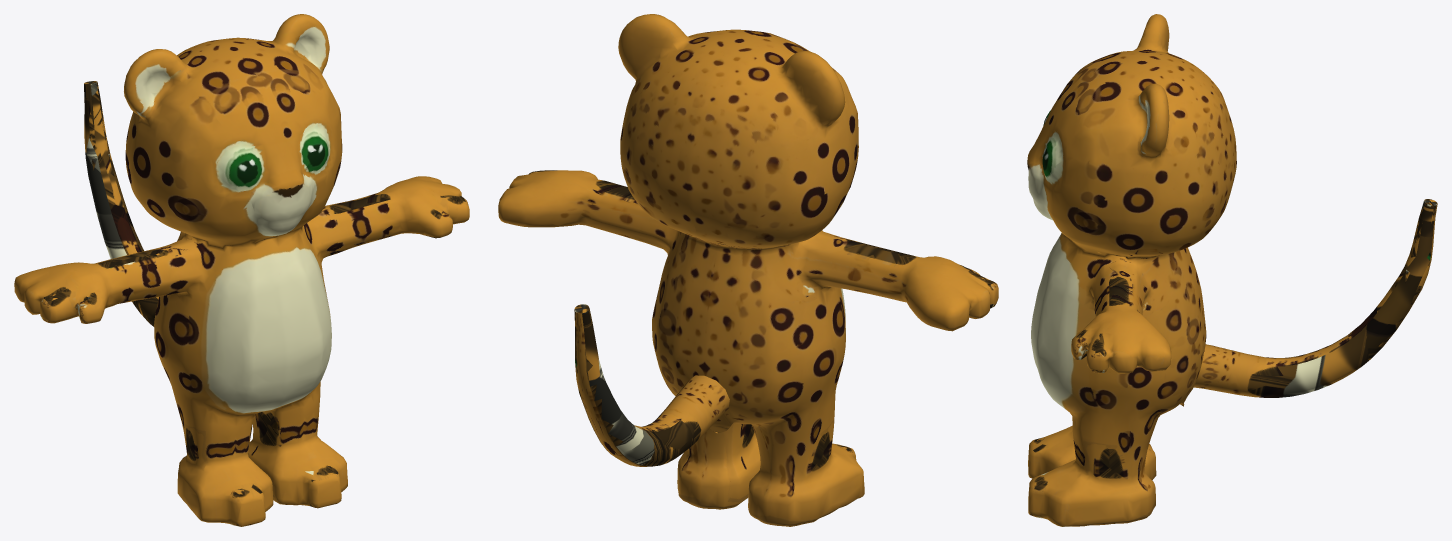
Rendered from leopard_tpose.glb.
3 renders of one model, left to right at view 1: azimuth 30°, elevation 25°; view 2: azimuth 150°, elevation 25°; view 3: azimuth 270°, elevation 25°, orthographic. The views are drawn at different scales.
Parts seen in each view (by area): view 1: leopard_tpose_baked; view 2: leopard_tpose_baked; view 3: leopard_tpose_baked.
Part boxes in pixels (x1,y1,x2,y2): leopard_tpose_baked: [14, 14, 469, 526]; leopard_tpose_baked: [498, 14, 998, 526]; leopard_tpose_baked: [1027, 14, 1437, 526].
Bounding box in the file's own units: 1.38 × 1.35 × 1.13.
Materials: 1 (1 with a texture image).
